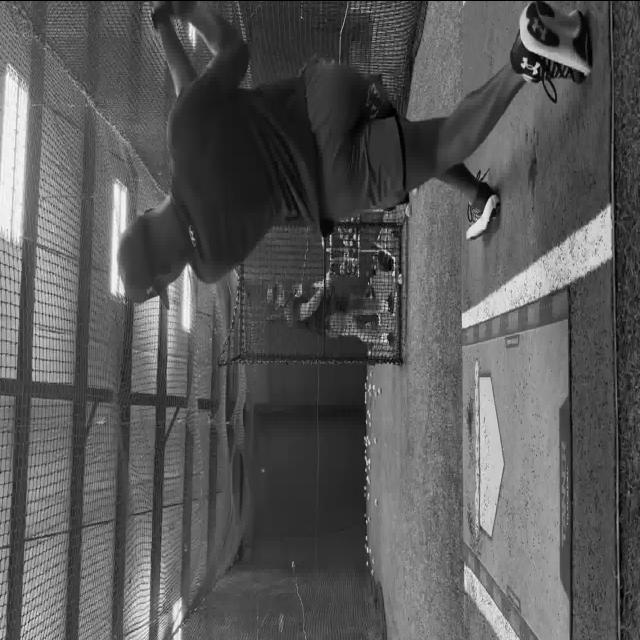baseball: (404, 203, 412, 217), (398, 273, 403, 285), (378, 387, 382, 395)
shoe: (509, 1, 592, 94), (465, 170, 500, 240), (386, 290, 396, 314), (386, 332, 396, 349)
